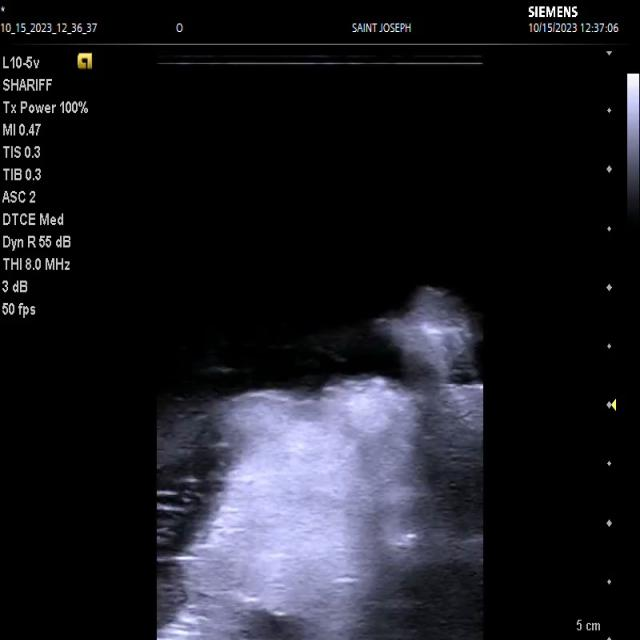tissue: (184, 290, 483, 558)
